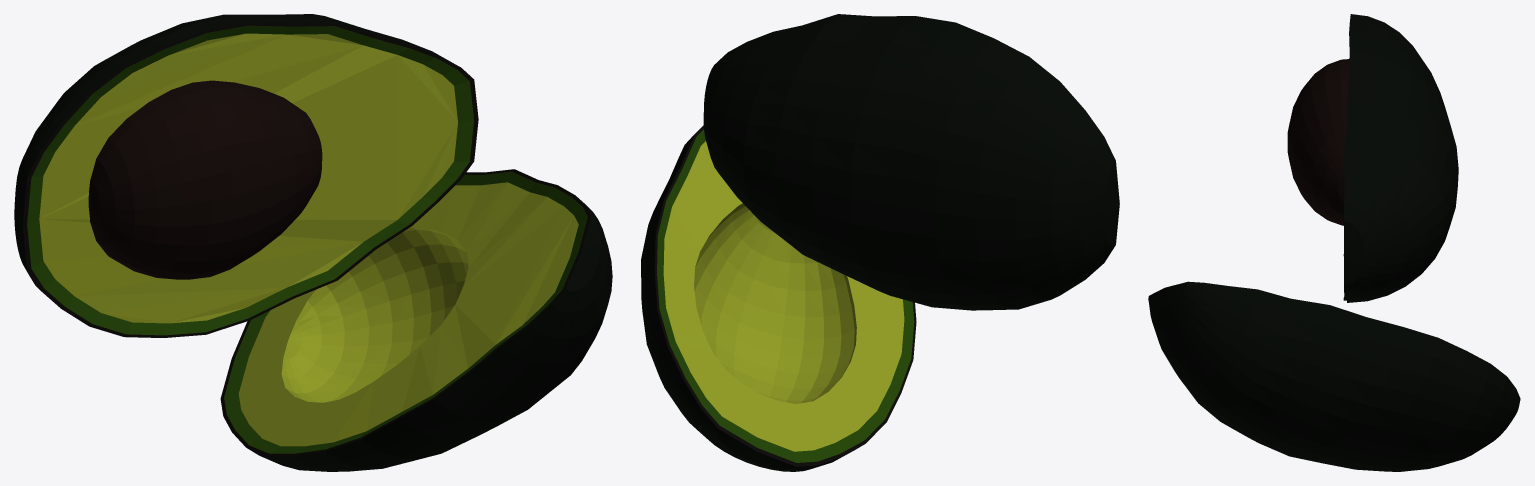
Rendered from avocado.obj.
The picture shows the model from 3 angles, left to right: view 1: azimuth 30°, elevation 25°; view 2: azimuth 150°, elevation 25°; view 3: azimuth 270°, elevation 25°; orthographic projection. The views are drawn at different scales.
Size of the model in its own units: 2.2 by 1.97 by 1.76.
